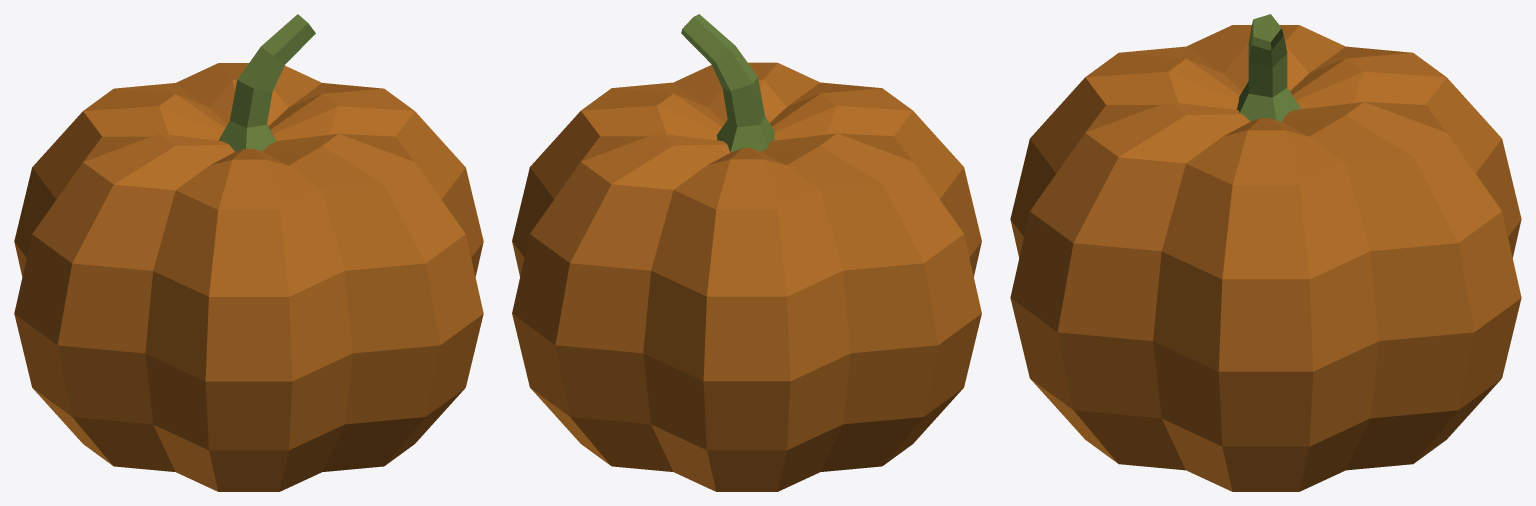
The model's file is SM_Envr_Nature_Farm_Vegetable_Pumpkin.fbx.
The picture shows the model from 3 angles, left to right: view 1: azimuth 30°, elevation 25°; view 2: azimuth 150°, elevation 25°; view 3: azimuth 270°, elevation 25°; orthographic projection. The views are drawn at different scales.
Visible parts, largest first — view 1: SM_Envr_Nature_Farm_Vegetable_Pumpkin; view 2: SM_Envr_Nature_Farm_Vegetable_Pumpkin; view 3: SM_Envr_Nature_Farm_Vegetable_Pumpkin.
Part boxes in pixels (x1,y1,x2,y2): SM_Envr_Nature_Farm_Vegetable_Pumpkin: [14, 14, 483, 491]; SM_Envr_Nature_Farm_Vegetable_Pumpkin: [512, 14, 981, 491]; SM_Envr_Nature_Farm_Vegetable_Pumpkin: [1010, 14, 1521, 491].
Bounding box in the file's own units: 28.6 × 26.13 × 27.29.
